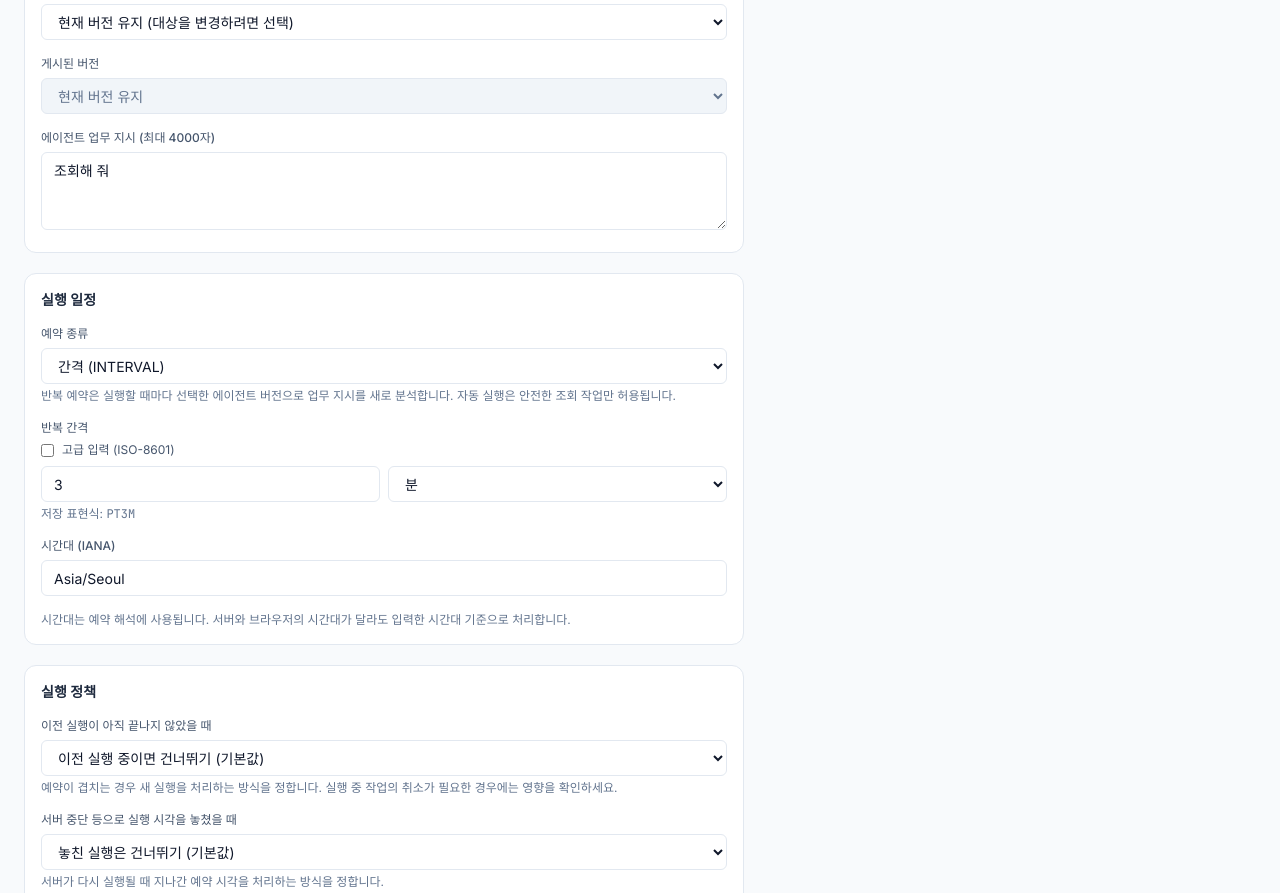
Schedule live management › round-trips advanced simple intervals and protects complex intervals from accidental replacement
(page scrolled)
Expected: the number field named "반복 간격 숫자" holds "3", x1=41 y1=466 x2=380 y2=502
Click the checkbox labelled "고급 입력 (ISO-8601)" at (48, 450), box x1=41 y1=444 x2=54 y2=456
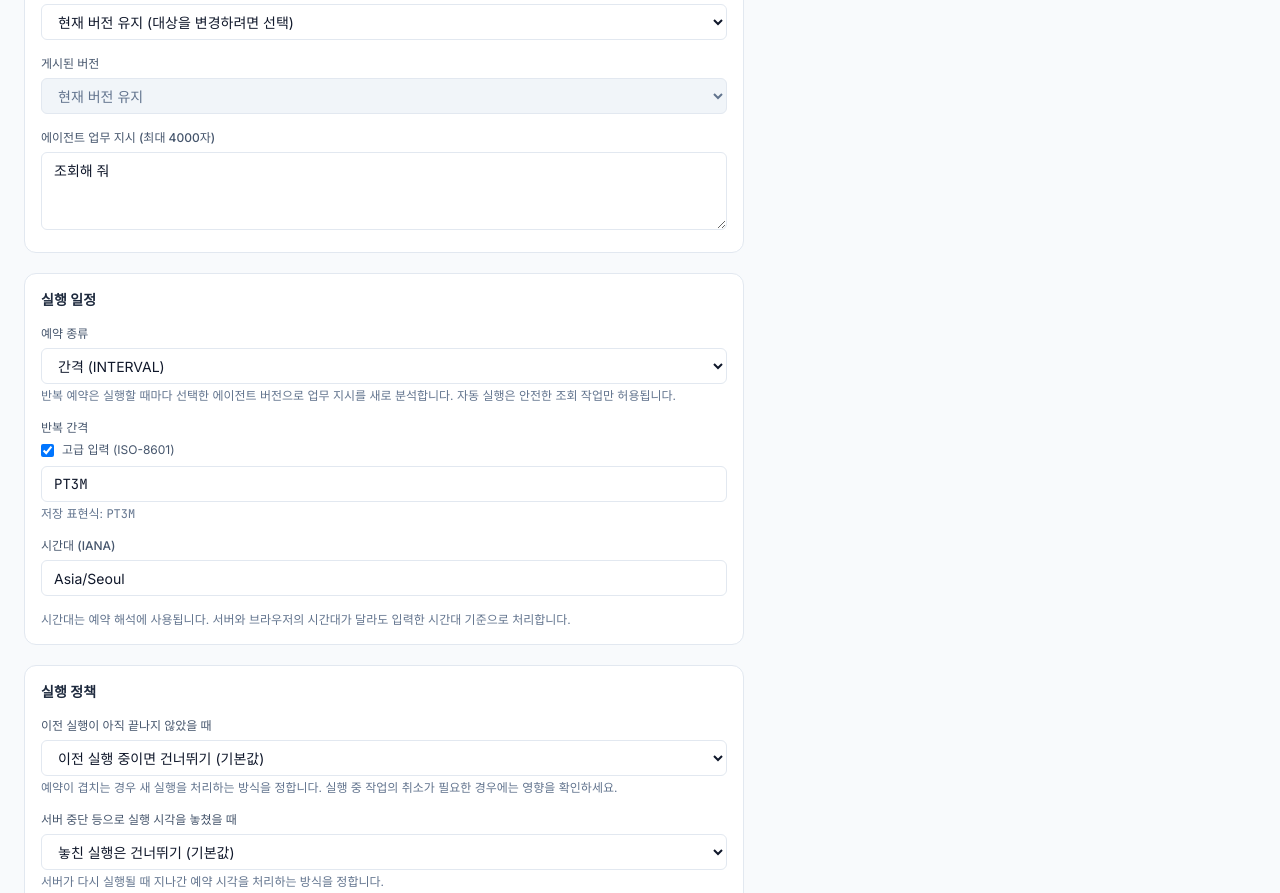
Replace the text in the field named "실행 간격 (ISO-8601)" with "PT15M" at (384, 484), box x1=41 y1=466 x2=727 y2=502
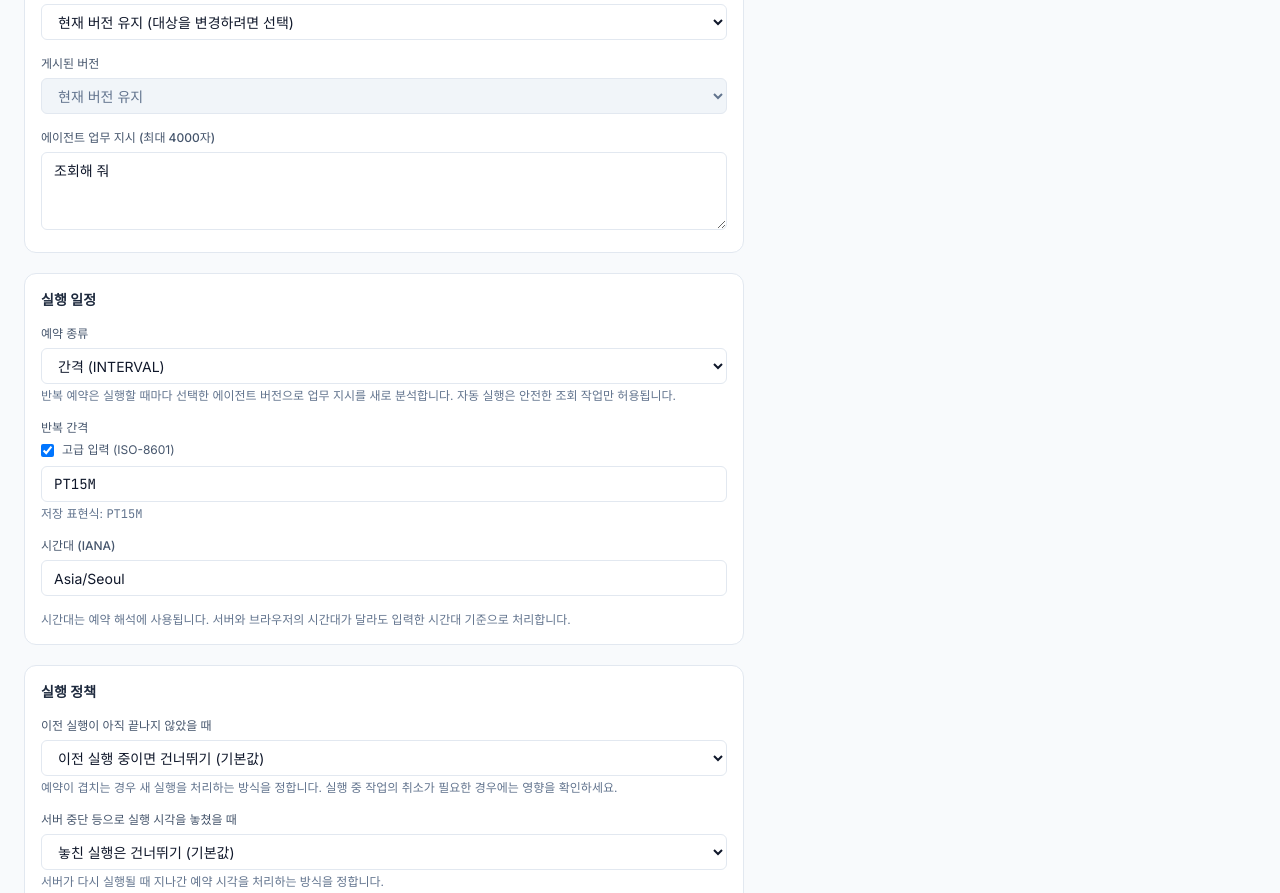
Click the checkbox labelled "고급 입력 (ISO-8601)" at (48, 450), box x1=41 y1=444 x2=54 y2=456
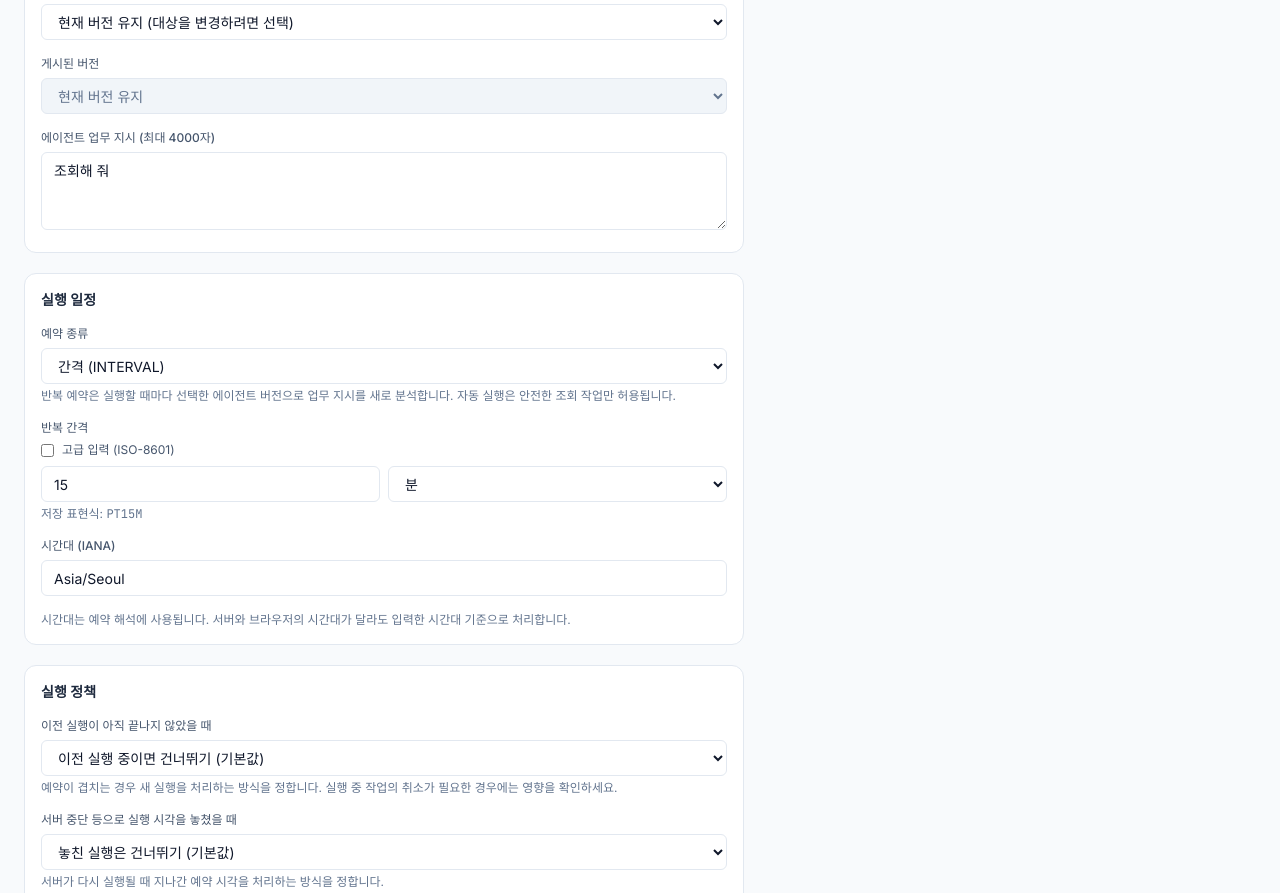
Expected: the number field named "반복 간격 숫자" holds "15", x1=41 y1=466 x2=380 y2=502
Expected: the dropdown named "반복 간격 단위" shows "분", x1=388 y1=466 x2=727 y2=502
Click the checkbox labelled "고급 입력 (ISO-8601)" at (48, 450), box x1=41 y1=444 x2=54 y2=456
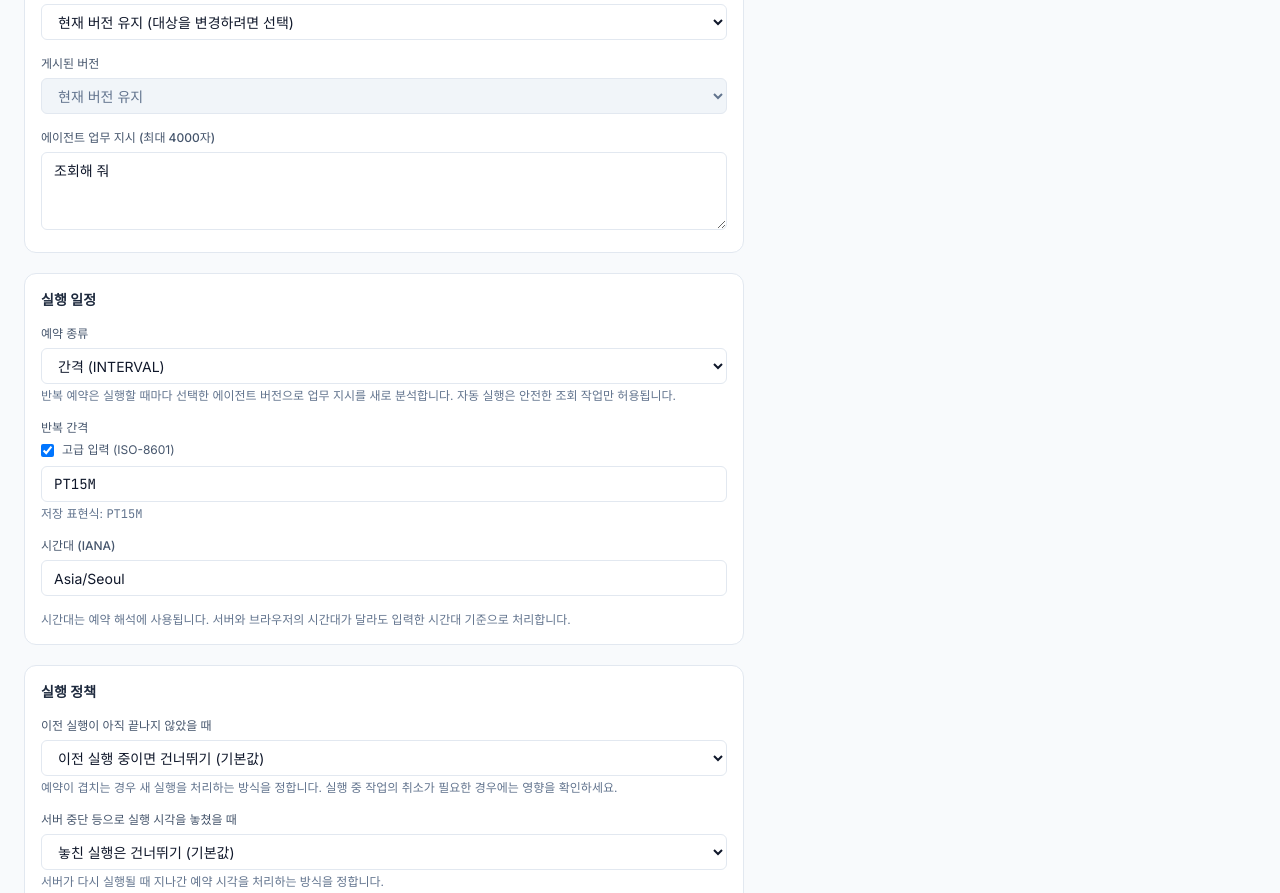
Replace the text in the field named "실행 간격 (ISO-8601)" with "P1DT2H" at (384, 484), box x1=41 y1=466 x2=727 y2=502
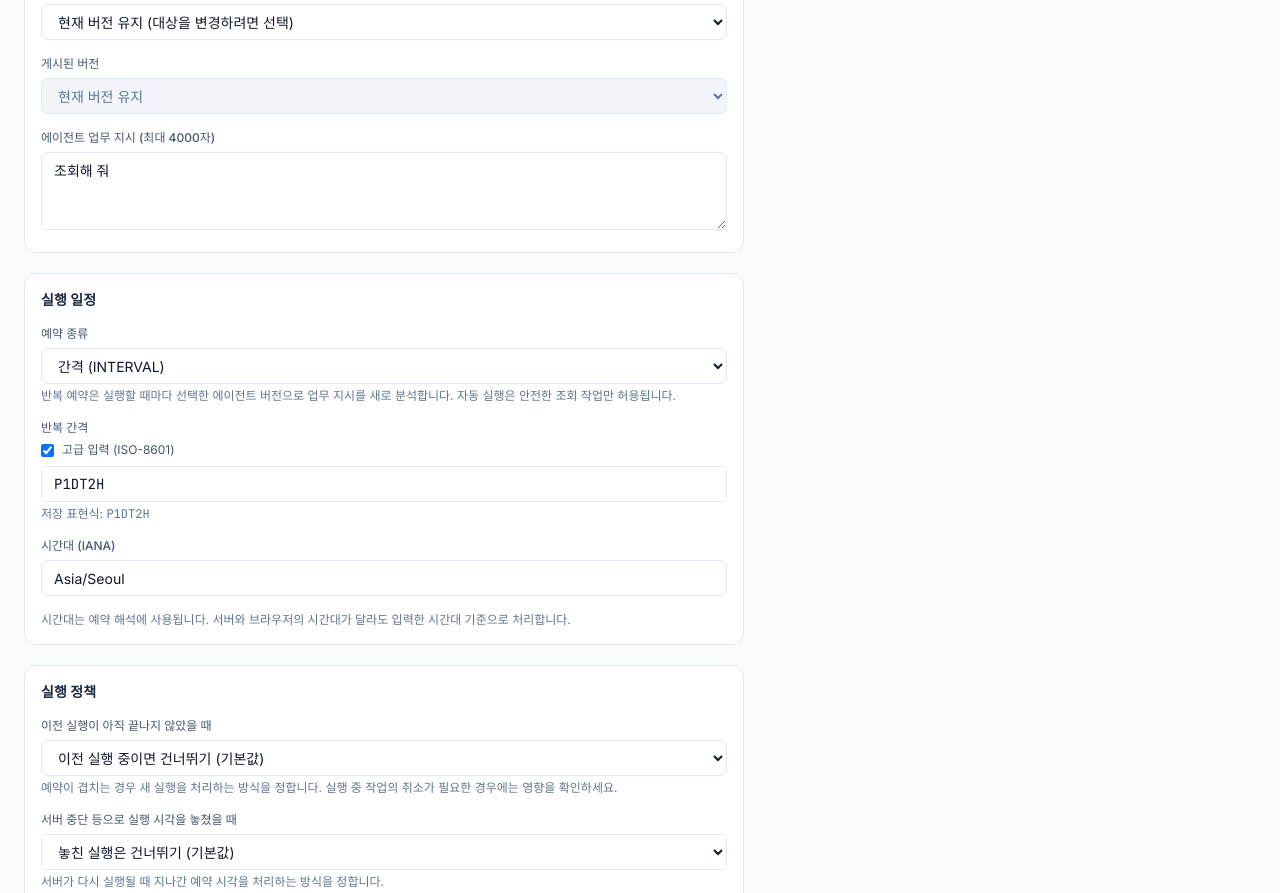
Click the checkbox labelled "고급 입력 (ISO-8601)" at (48, 450), box x1=41 y1=444 x2=54 y2=456
(page scrolled)
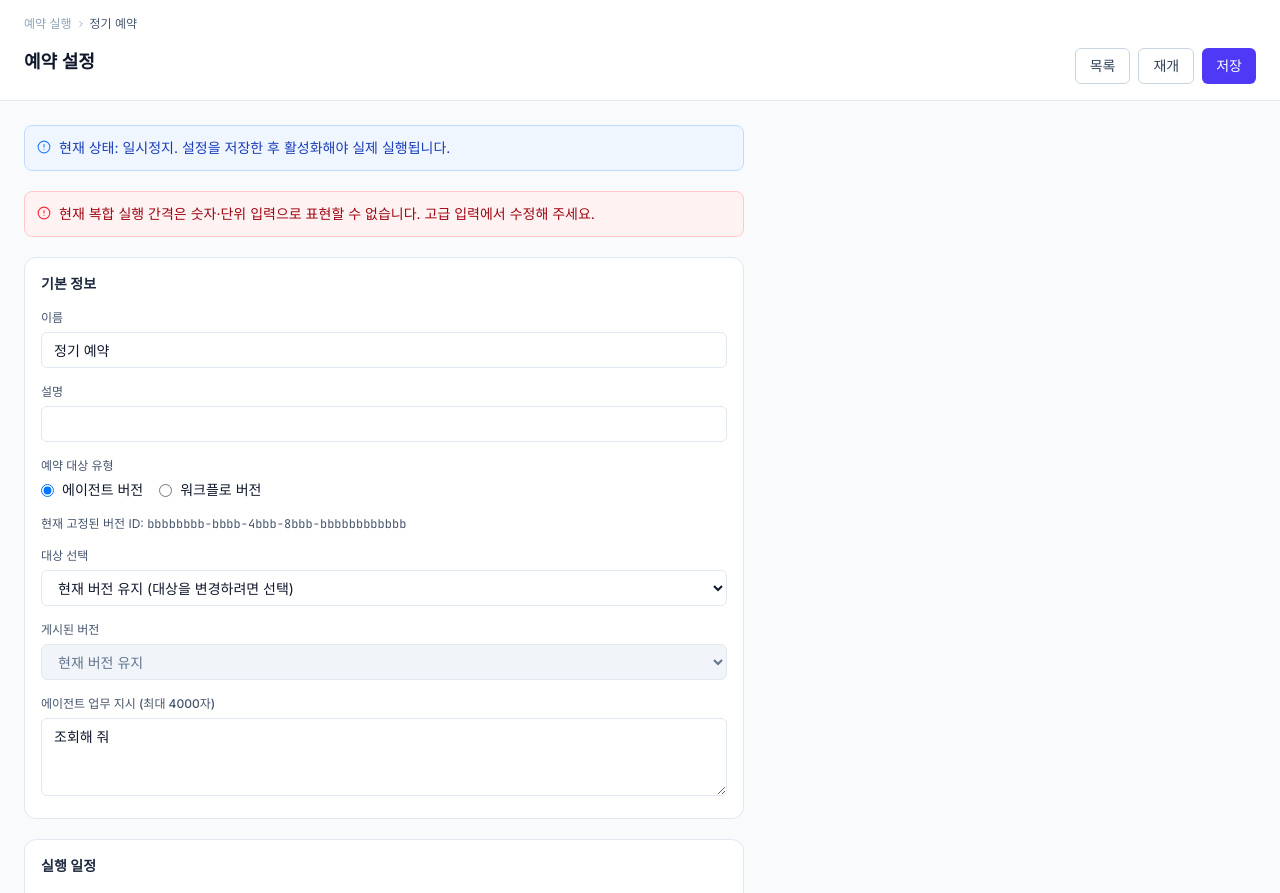
Expected: the text "현재 복합 실행 간격은 숫자·단위 입력으로 표현할 수 없습니다. 고급 입력에서 수정해 주세요." is shown, x1=59 y1=204 x2=595 y2=224
